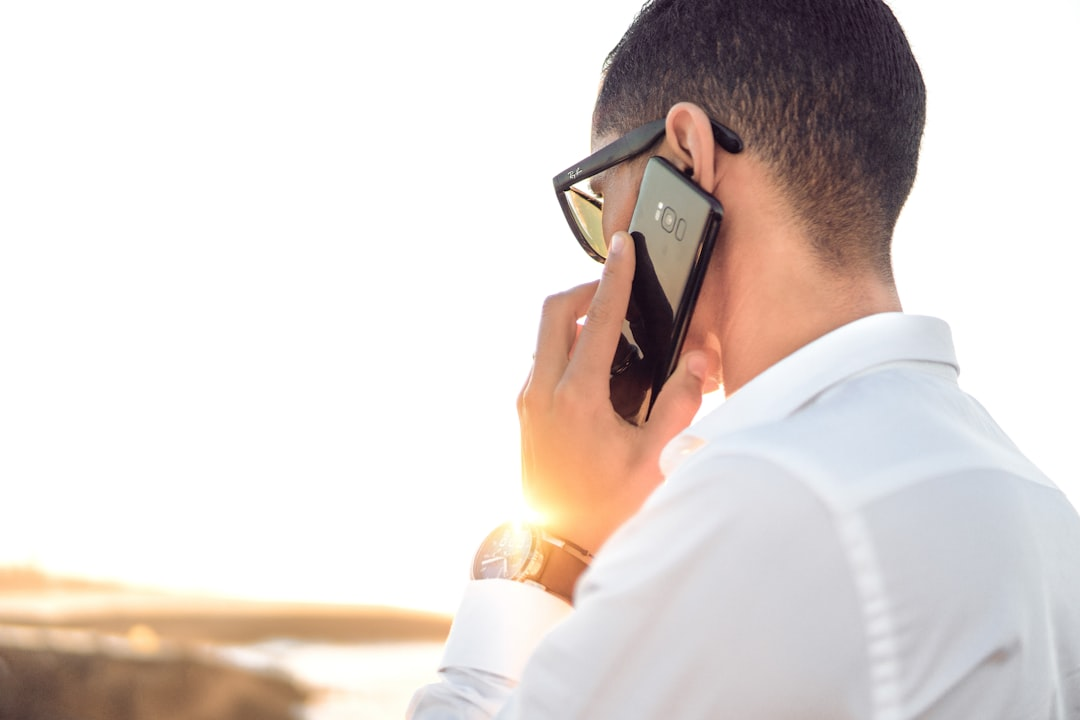phone: (598, 156, 725, 433)
